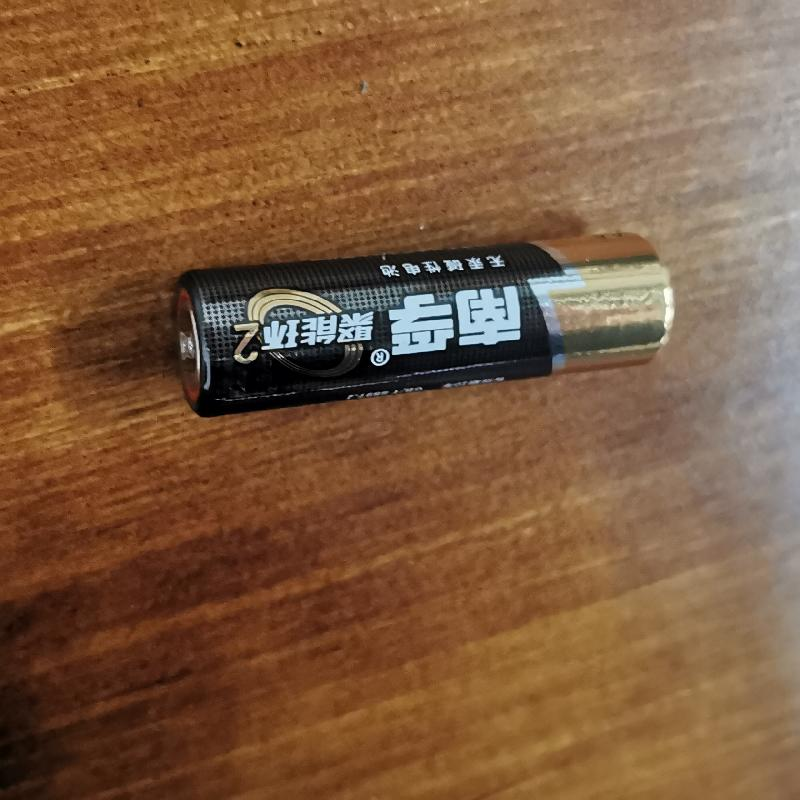battery: (150, 227, 704, 416)
